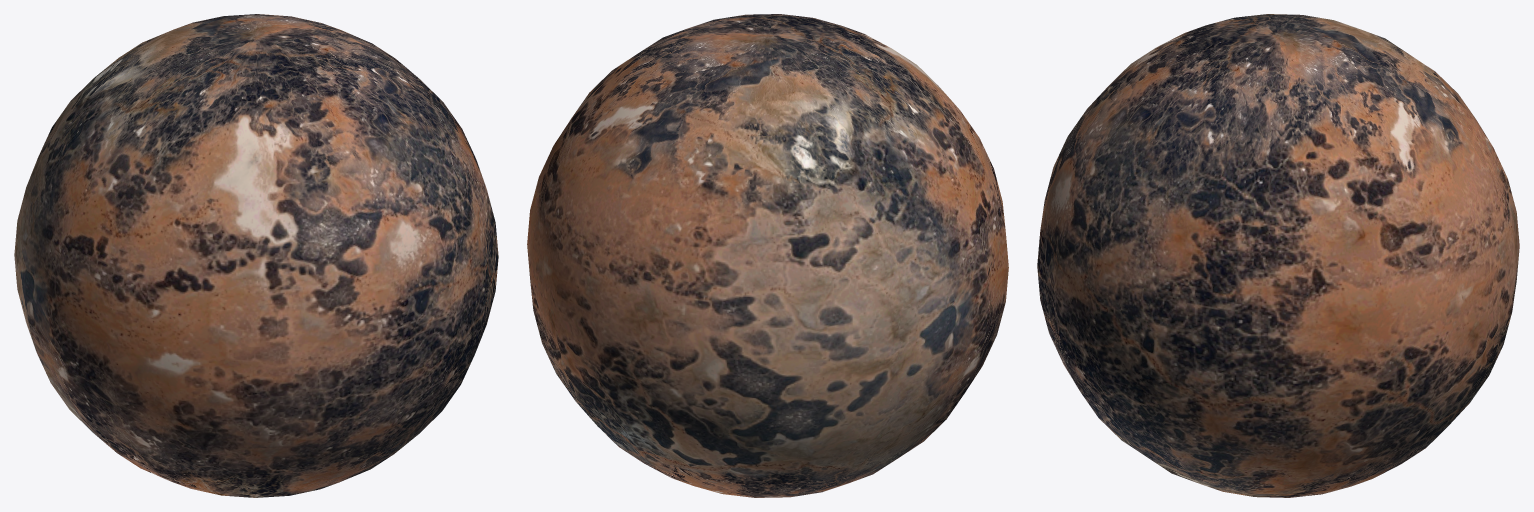
The model's file is HoloPlanet.fbx.
The picture shows the model from 3 angles, left to right: view 1: azimuth 30°, elevation 25°; view 2: azimuth 150°, elevation 25°; view 3: azimuth 270°, elevation 25°; orthographic projection.
Parts seen in each view (by area): view 1: pSphere1; view 2: pSphere1; view 3: pSphere1.
Boxes of the visible parts, x1=… form: pSphere1: x1=14, y1=14, x2=498, y2=497; pSphere1: x1=527, y1=14, x2=1008, y2=497; pSphere1: x1=1037, y1=14, x2=1519, y2=497.
Bounding box in the file's own units: 1.15 × 1.16 × 1.15.
Materials: 1 (1 with a texture image).
